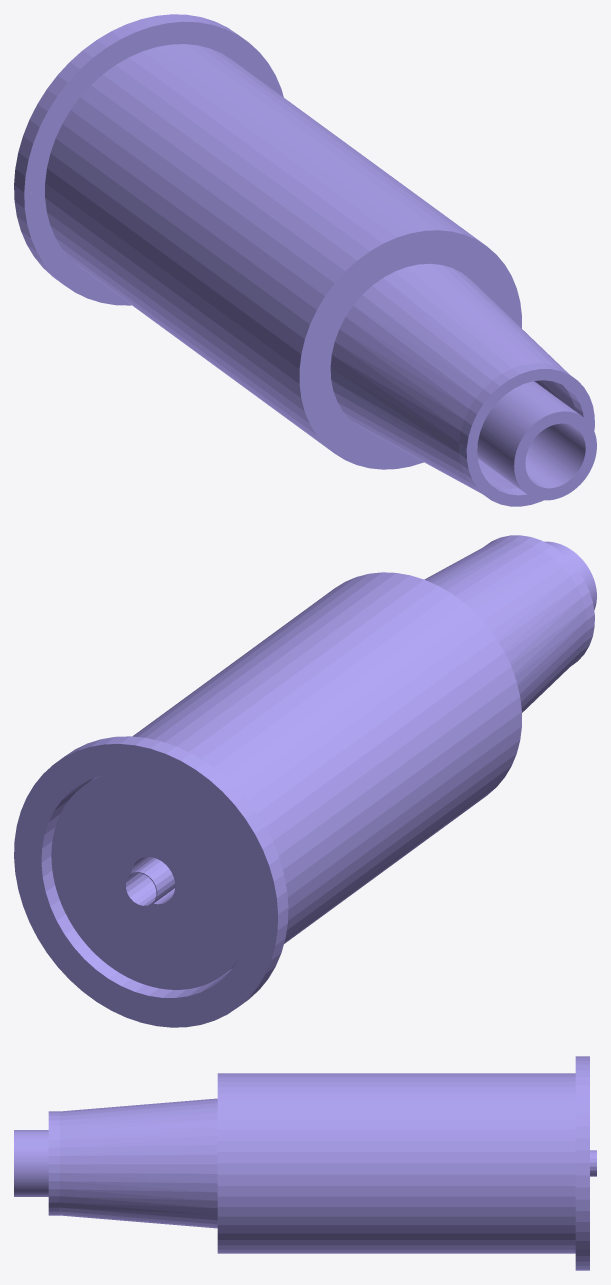
File: Lar-FCAL-SideC.glb
The picture shows the model from 3 angles, top to bottom: view 1: azimuth 30°, elevation 25°; view 2: azimuth 150°, elevation 25°; view 3: azimuth 270°, elevation 25°; orthographic projection. The views are drawn at different scales.
Visible parts, largest first — view 1: null; view 2: null; view 3: null.
Boxes of the visible parts, box(x1,y1,x2,y2) form: null: box(14, 14, 596, 506); null: box(14, 535, 596, 1027); null: box(14, 1056, 596, 1270).
Bounding box in the file's own units: 1.14 × 1.14 × 3.1.
